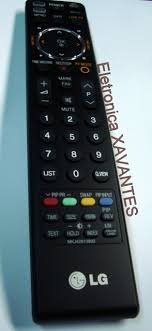remote control: (25, 3, 136, 329)
